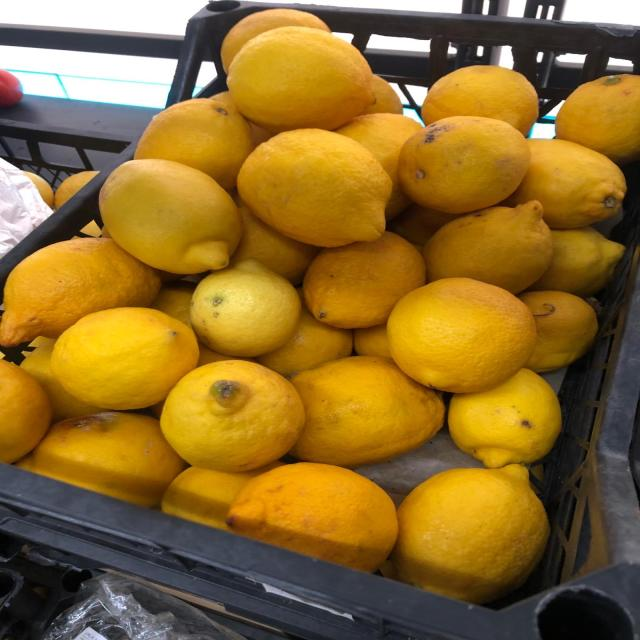lemon: (377, 441, 564, 597), (384, 259, 543, 400), (236, 121, 401, 249), (152, 351, 308, 472), (100, 155, 248, 276), (218, 22, 390, 126), (180, 249, 315, 356), (402, 110, 534, 212)
